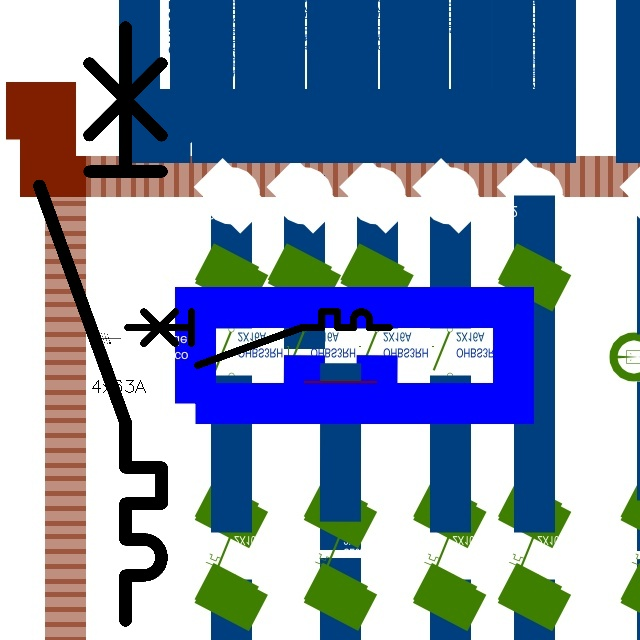interruptor_termomagnetico: (24, 12, 177, 636), (121, 305, 396, 372)
